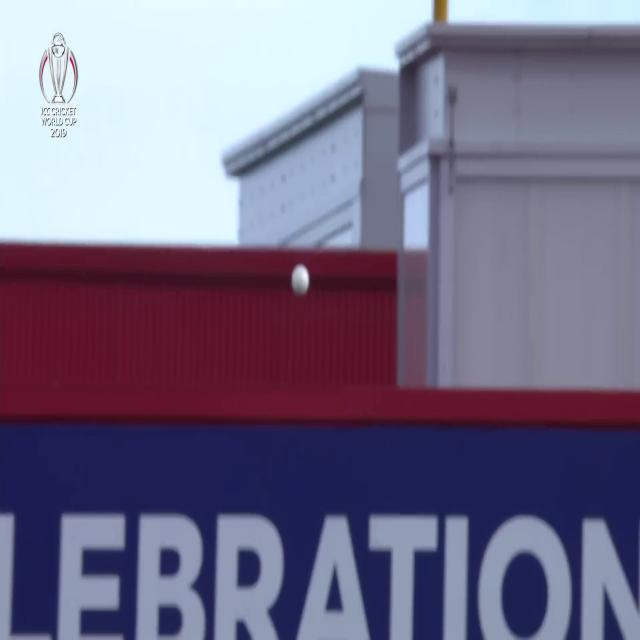ball: (286, 255, 316, 306)
